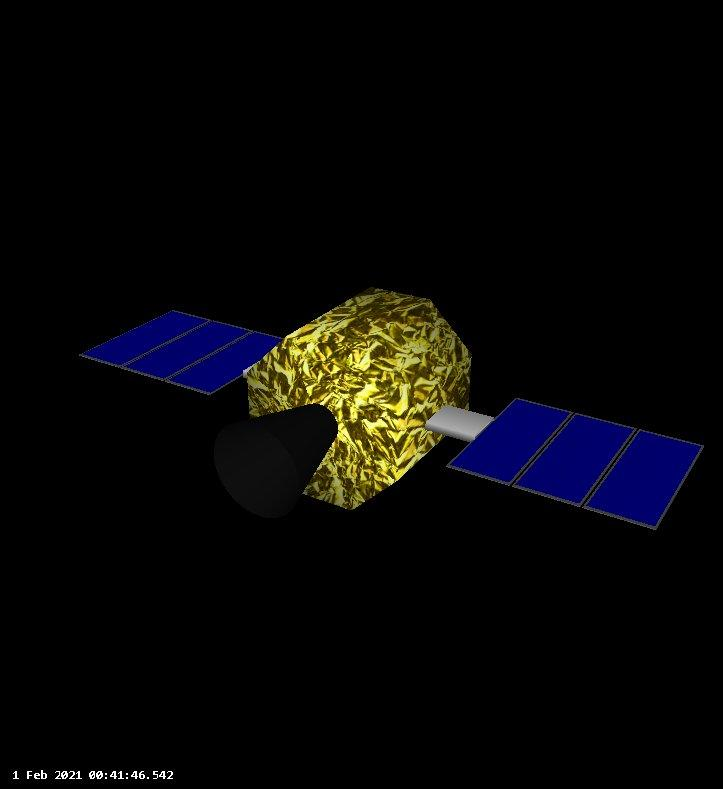body: (246, 284, 476, 513)
solar: (446, 396, 705, 535), (78, 304, 284, 393)
thruster: (210, 402, 339, 516)
